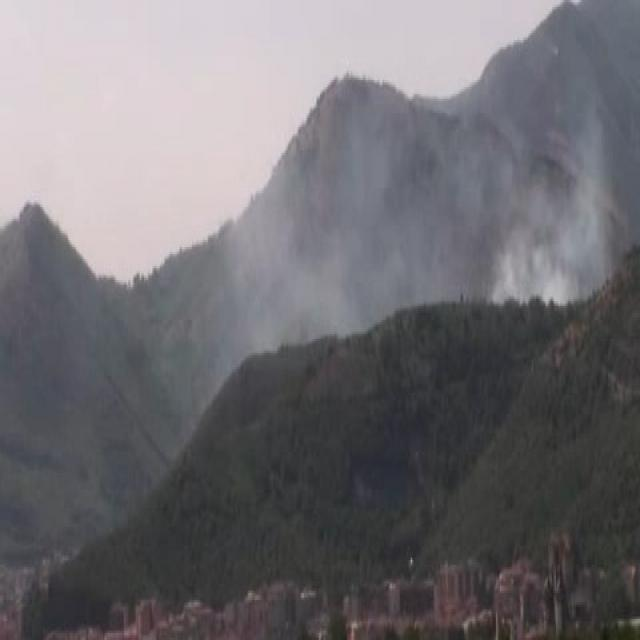smoke: (257, 130, 393, 317)
